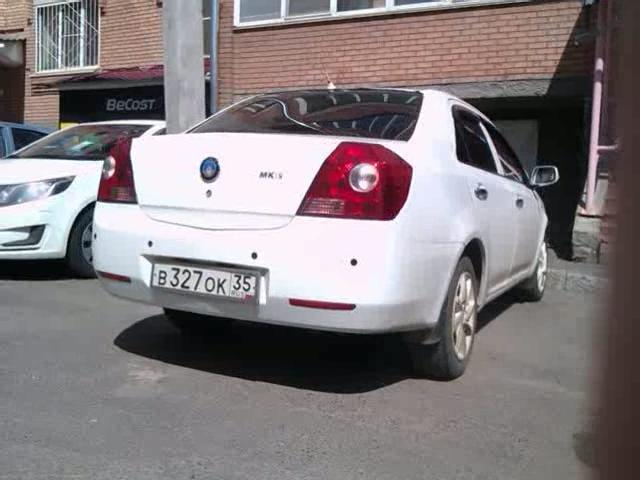license-plateSW: (152, 261, 259, 300)
